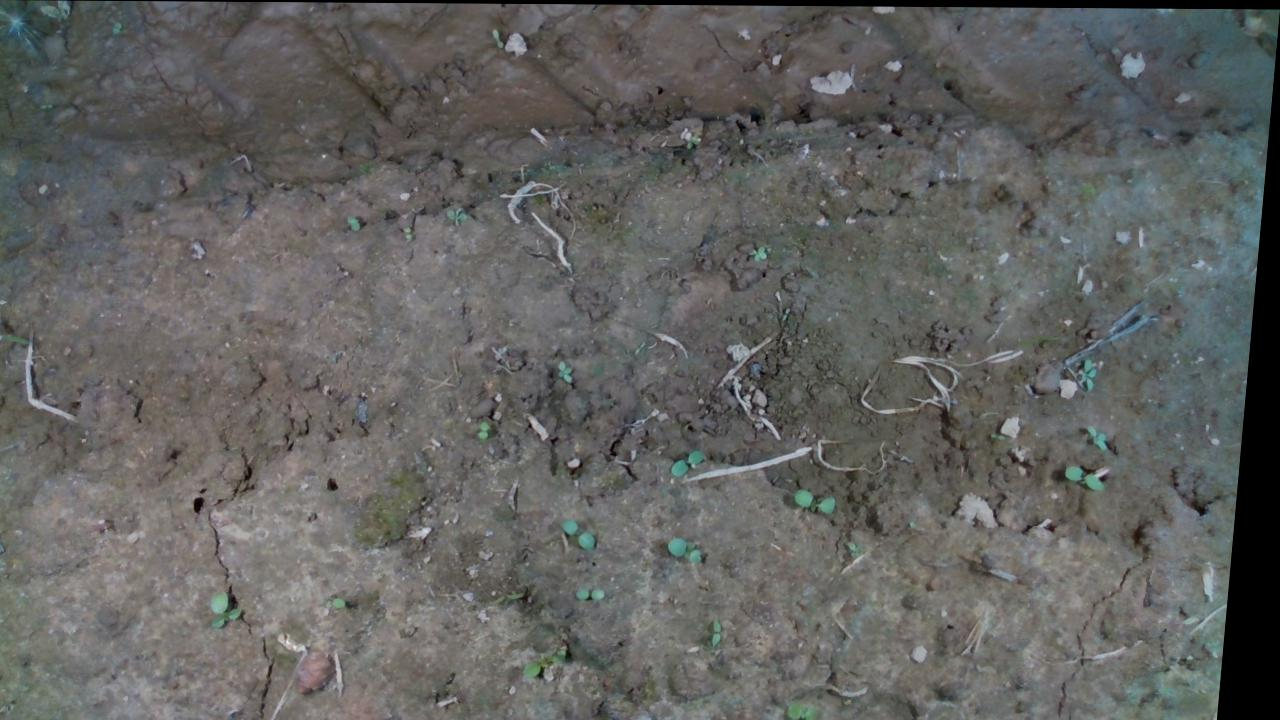weed: (211, 586, 252, 633), (1066, 458, 1117, 494), (798, 485, 848, 516), (566, 515, 607, 551), (1079, 352, 1110, 386), (1087, 422, 1123, 450), (679, 447, 714, 474), (582, 582, 621, 600), (445, 204, 478, 225), (749, 240, 774, 264), (333, 595, 354, 614), (345, 211, 367, 229)
